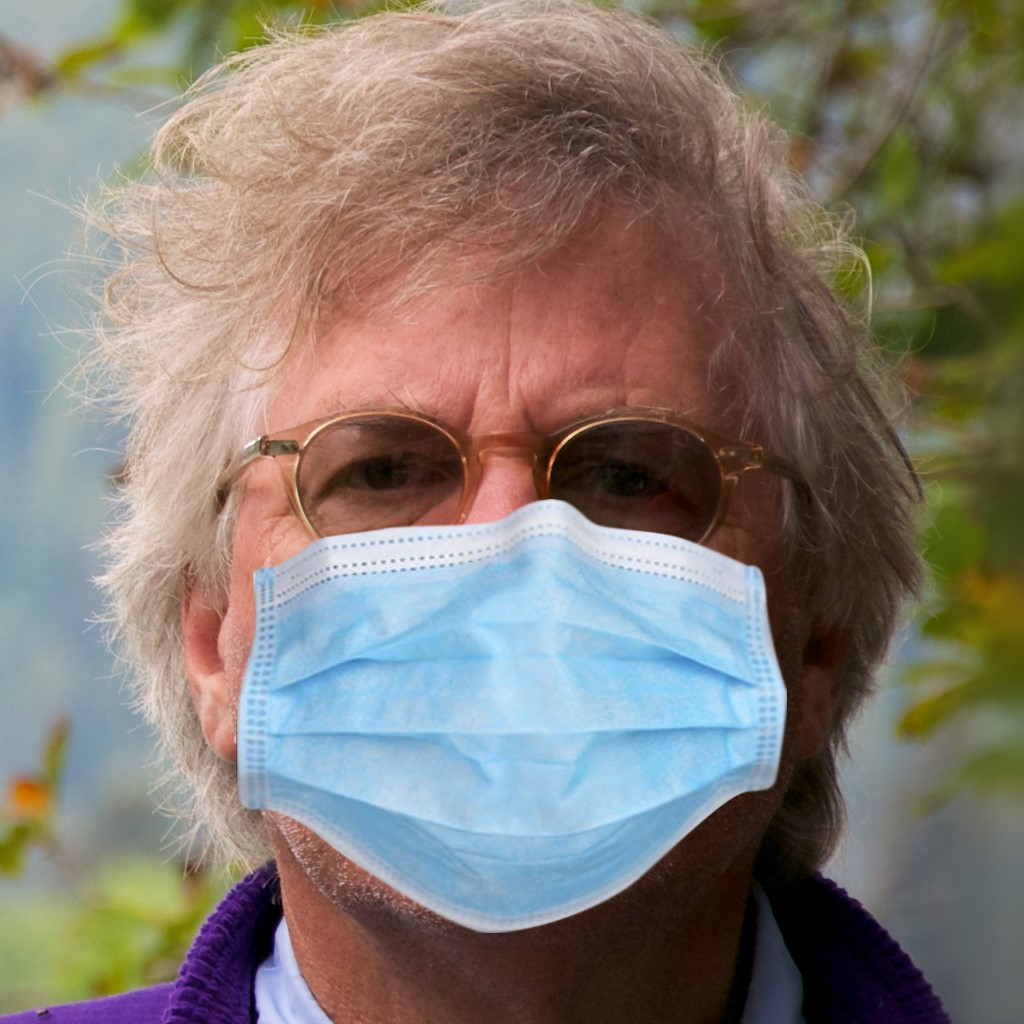con_mascara: (181, 198, 817, 887)
